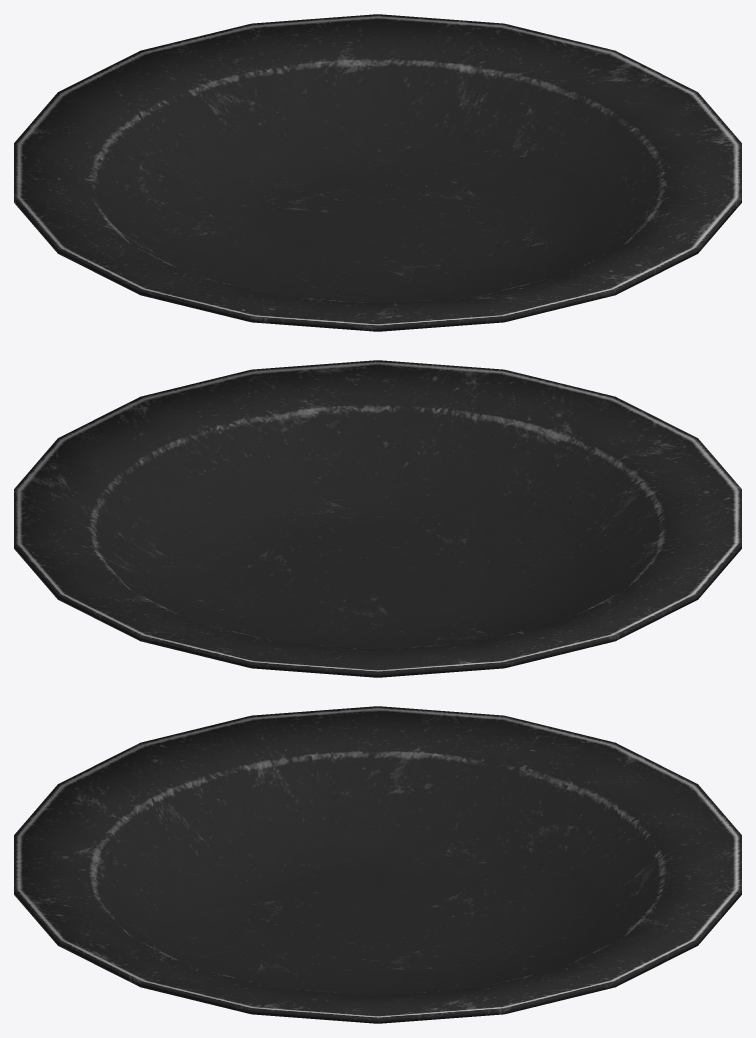
Rendered from MetalPlate.glb.
3 renders of one model, top to bottom at view 1: azimuth 30°, elevation 25°; view 2: azimuth 150°, elevation 25°; view 3: azimuth 270°, elevation 25°, orthographic.
Parts seen in each view (by area): view 1: plate_low; view 2: plate_low; view 3: plate_low.
Boxes of the visible parts, <box> form: plate_low: <box>14,14,741,331</box>; plate_low: <box>14,360,741,677</box>; plate_low: <box>14,706,741,1023</box>.
Bounding box in the file's own units: 43.45 × 3.97 × 42.79.
Materials: 1 (1 with a texture image).
